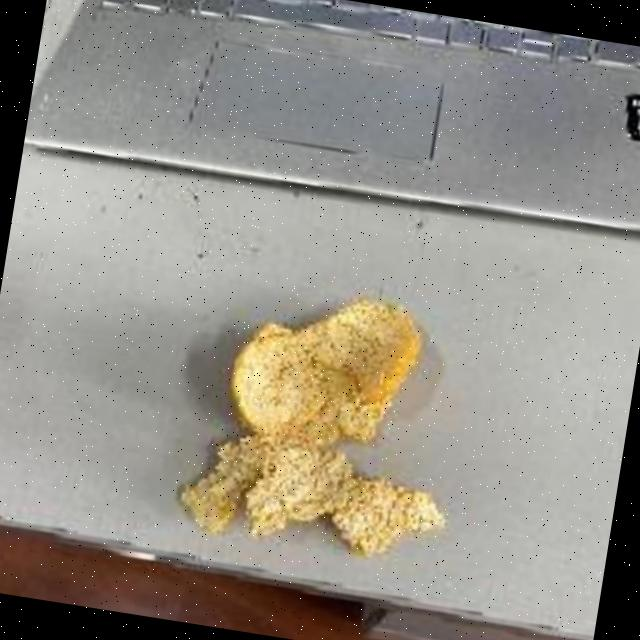orange-peel: (168, 266, 482, 573)
